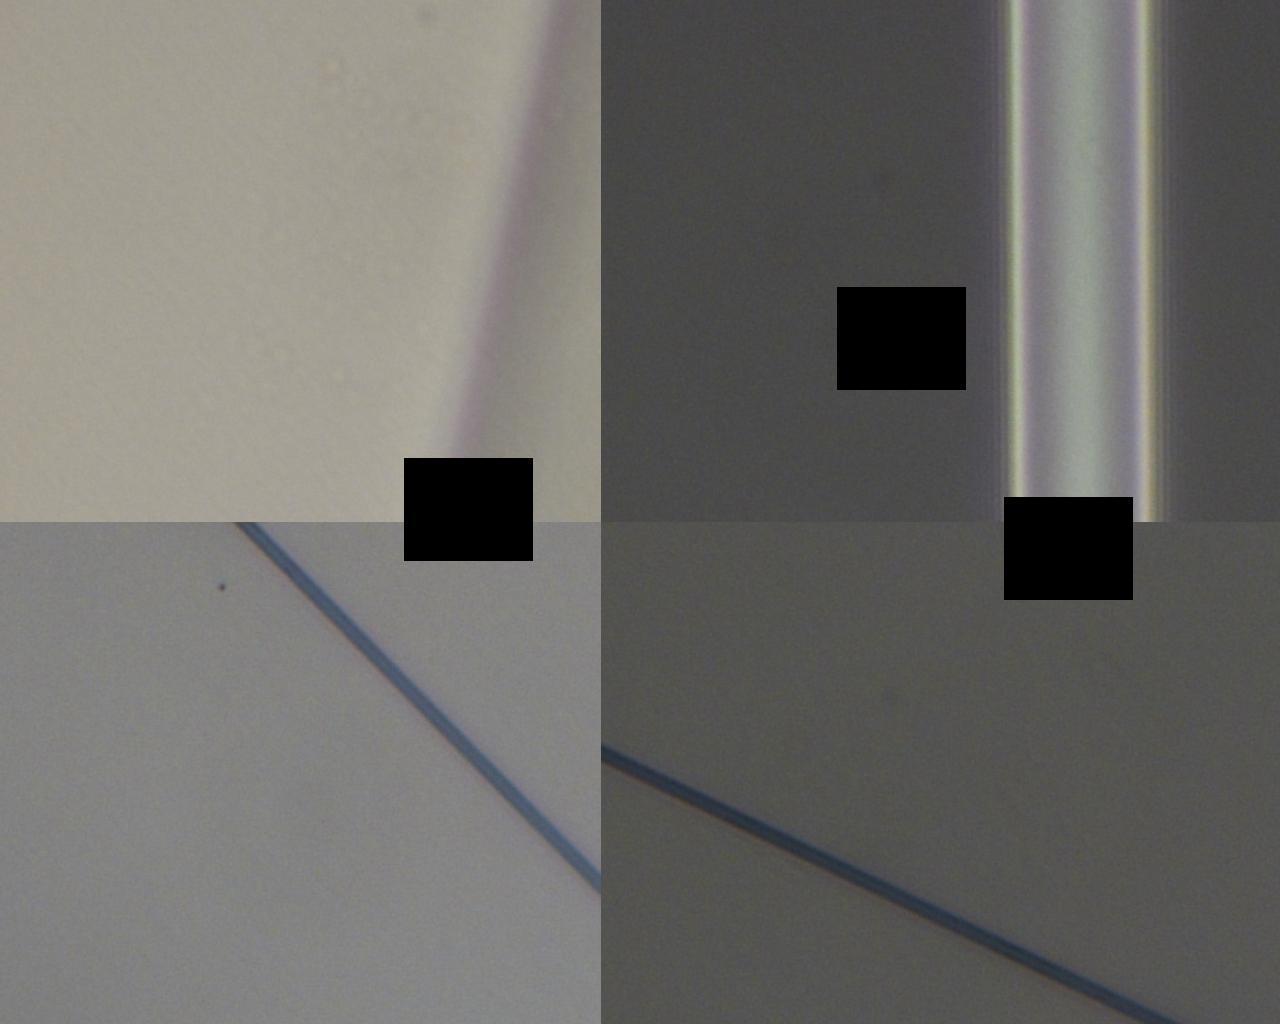fiber: (21, 561, 678, 638)
